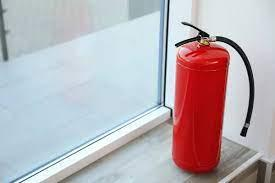floor-kept: (166, 16, 258, 175)
